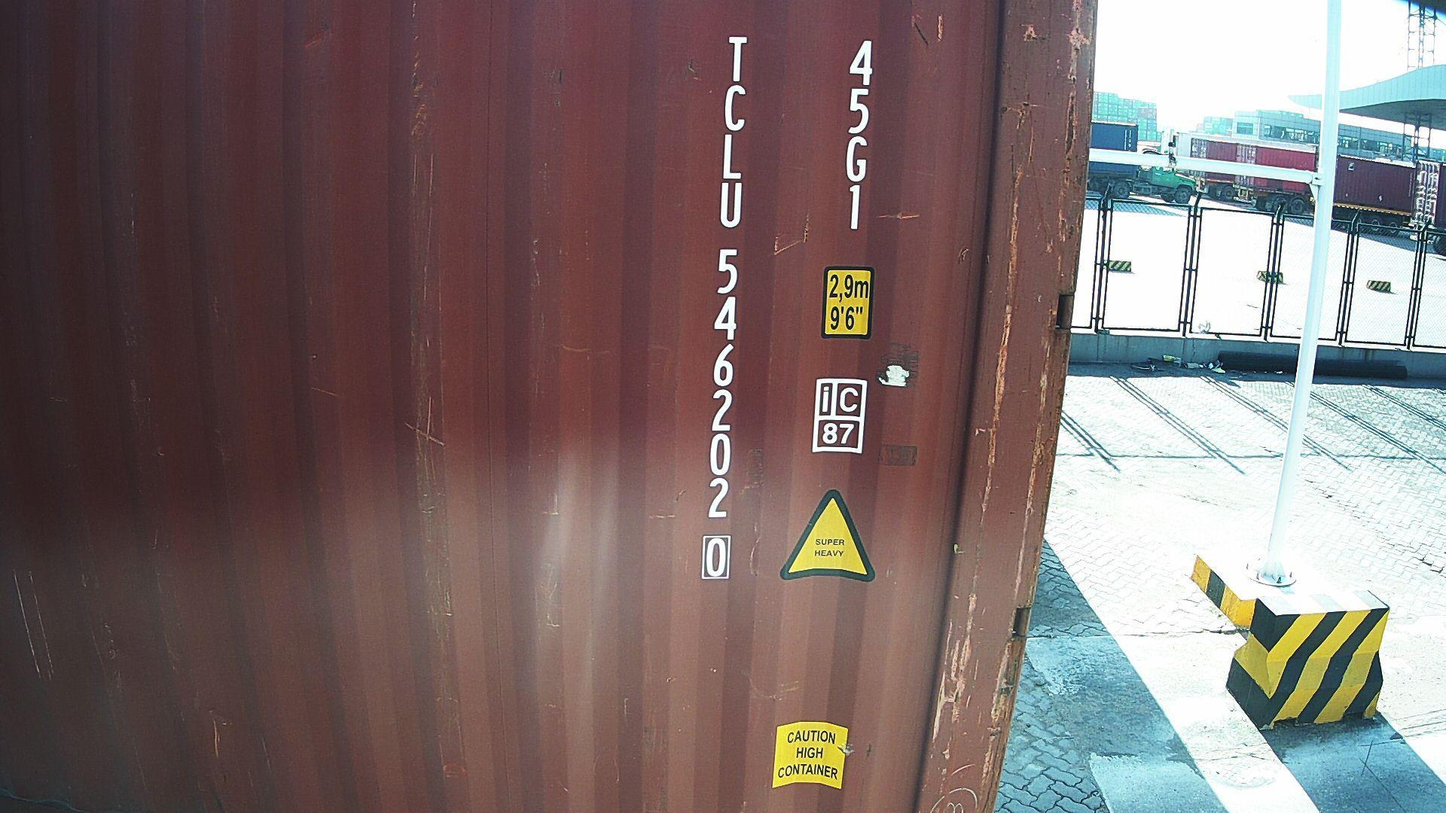container-numbers: (697, 31, 754, 585), (837, 36, 882, 237)
